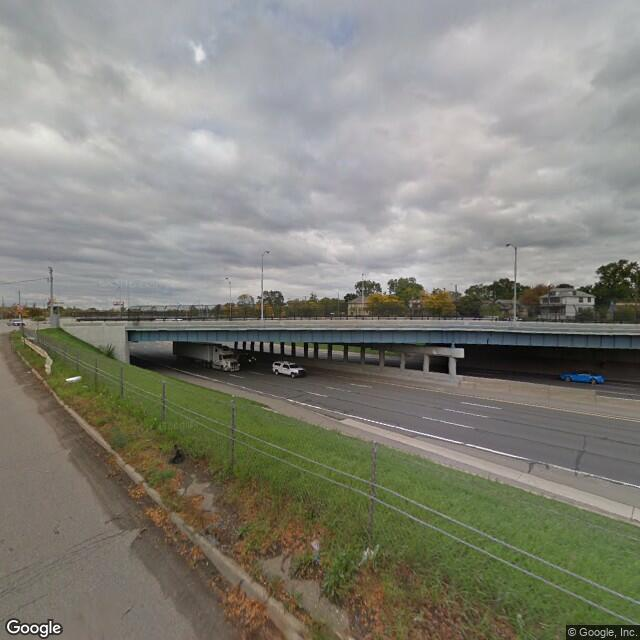litter: (362, 541, 382, 567), (171, 442, 184, 466), (310, 537, 321, 552), (63, 375, 84, 382)
